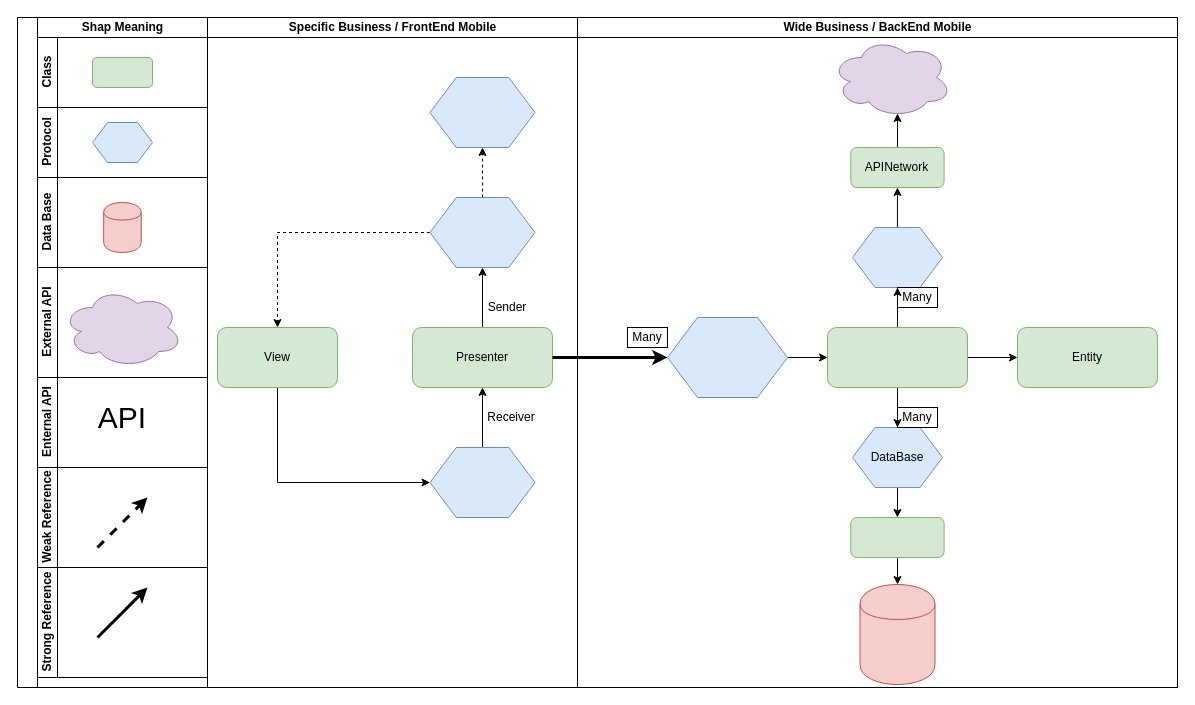
The diagram is 1195 pixels wide and 705 high, and some of its shapes have lost their labels. Here are the shapes that lost their labels. From the top down, the centre of each, then its label:
the point at 891,77: Networker
the point at 482,112: Router
the point at 482,232: Presentation
the point at 897,257: Network
the point at 727,357: UseCase
the point at 897,357: APIUseCase
the point at 482,482: Recipient
the point at 897,537: APIDataBase
the point at 897,634: DataBase Storage
